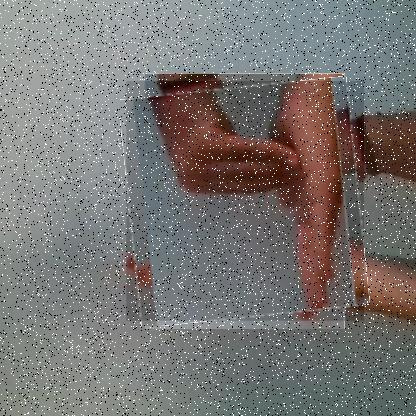Z: (125, 81, 364, 322)
